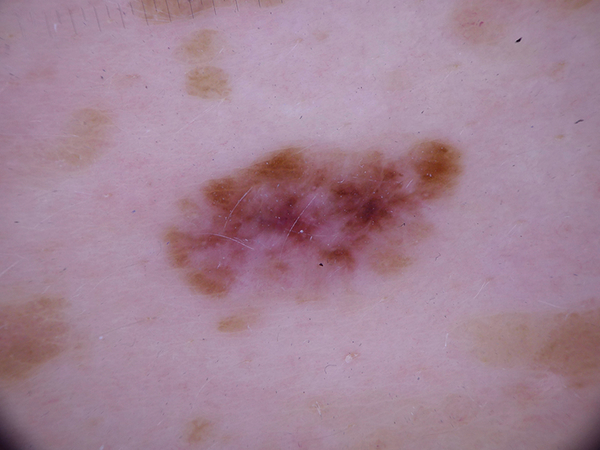Detected Lesion: (161, 128, 480, 322)
